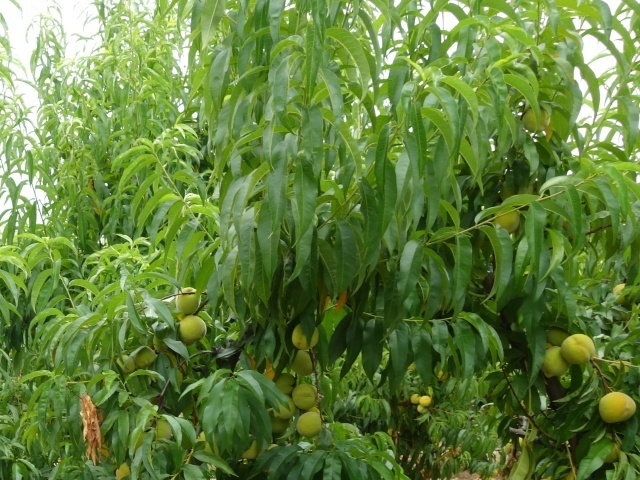peach: (561, 332, 598, 371), (600, 388, 636, 428), (536, 342, 570, 382), (175, 312, 209, 348), (291, 377, 323, 413), (491, 199, 523, 235), (288, 344, 320, 379), (289, 317, 321, 350), (173, 284, 204, 318), (297, 405, 327, 438), (270, 388, 300, 421), (522, 103, 553, 134), (273, 371, 301, 399), (130, 344, 156, 374), (111, 352, 137, 377), (113, 459, 137, 480), (610, 280, 629, 306)
